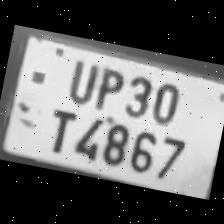0: (146, 73, 186, 125)
3: (117, 65, 155, 119)
4: (69, 108, 107, 163)
6: (126, 124, 161, 175)
7: (150, 129, 188, 183)
8: (96, 114, 132, 168)
P: (90, 60, 128, 112)
T: (40, 99, 80, 156)
U: (60, 53, 100, 103)
